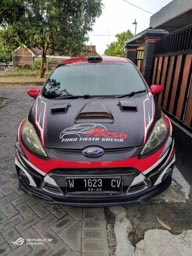plat: (65, 177, 122, 188)
